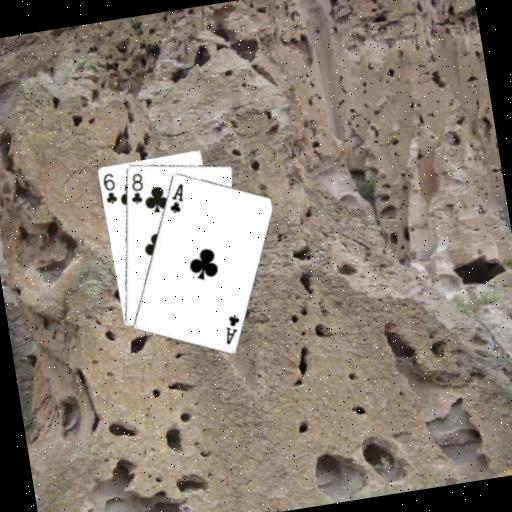6C: (98, 168, 119, 205)
8C: (123, 169, 147, 206)
AC: (163, 180, 189, 215), (219, 310, 244, 346)
